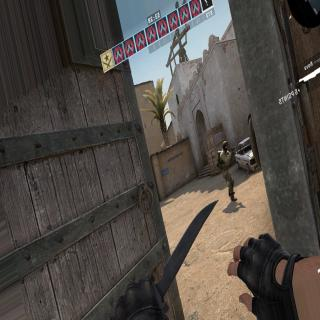CT-Body: (212, 135, 240, 203)
CT-Head: (221, 139, 229, 151)
